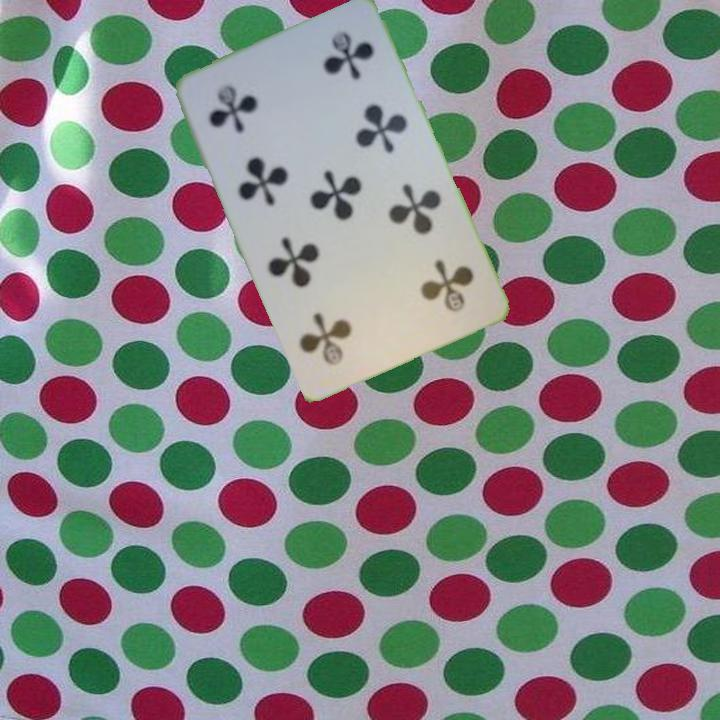c_9.png: (187, 50, 312, 167), (368, 229, 492, 346)
